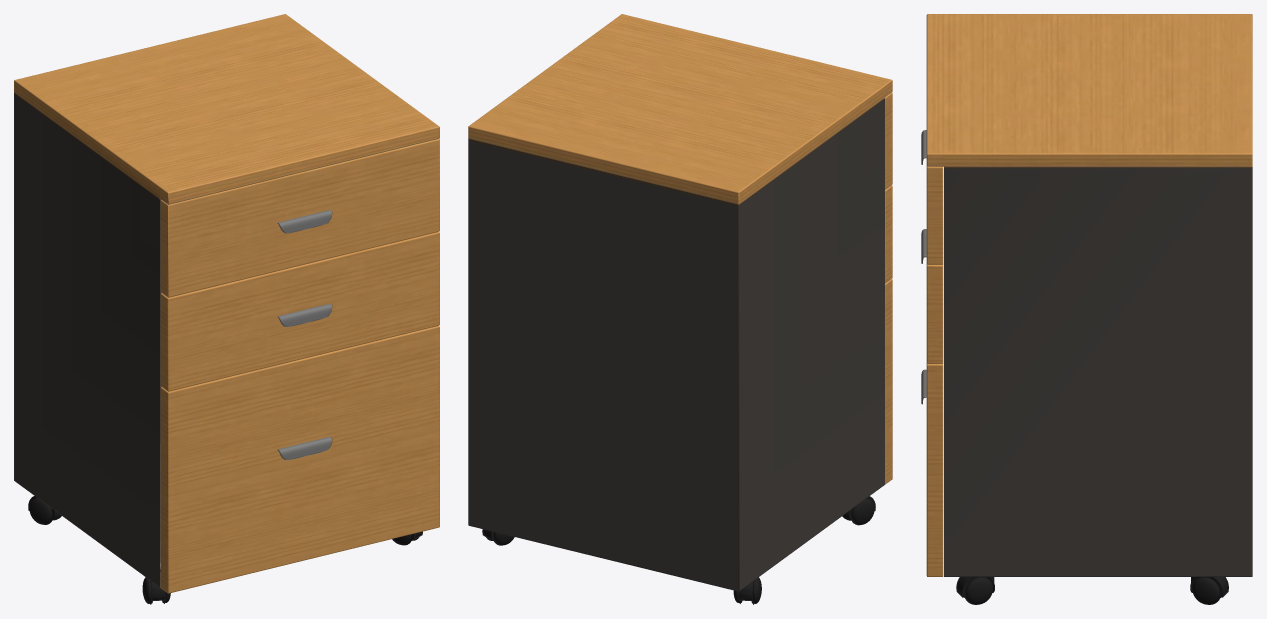
File: ec48ad45-5624-446c-bab7-a6e600176ca5.glb
The picture shows the model from 3 angles, left to right: view 1: azimuth 30°, elevation 25°; view 2: azimuth 150°, elevation 25°; view 3: azimuth 270°, elevation 25°; orthographic projection. The views are drawn at different scales.
Parts seen in each view (by area): view 1: File Mobile Wood And Paint Finish; view 2: File Mobile Wood And Paint Finish; view 3: File Mobile Wood And Paint Finish.
Boxes of the visible parts, <box> form: File Mobile Wood And Paint Finish: <box>14,14,439,604</box>; File Mobile Wood And Paint Finish: <box>468,14,892,604</box>; File Mobile Wood And Paint Finish: <box>921,14,1252,604</box>.
Size of the model in its own units: 0.4696 by 0.7024 by 0.4645.
2 materials, 2 textured.
